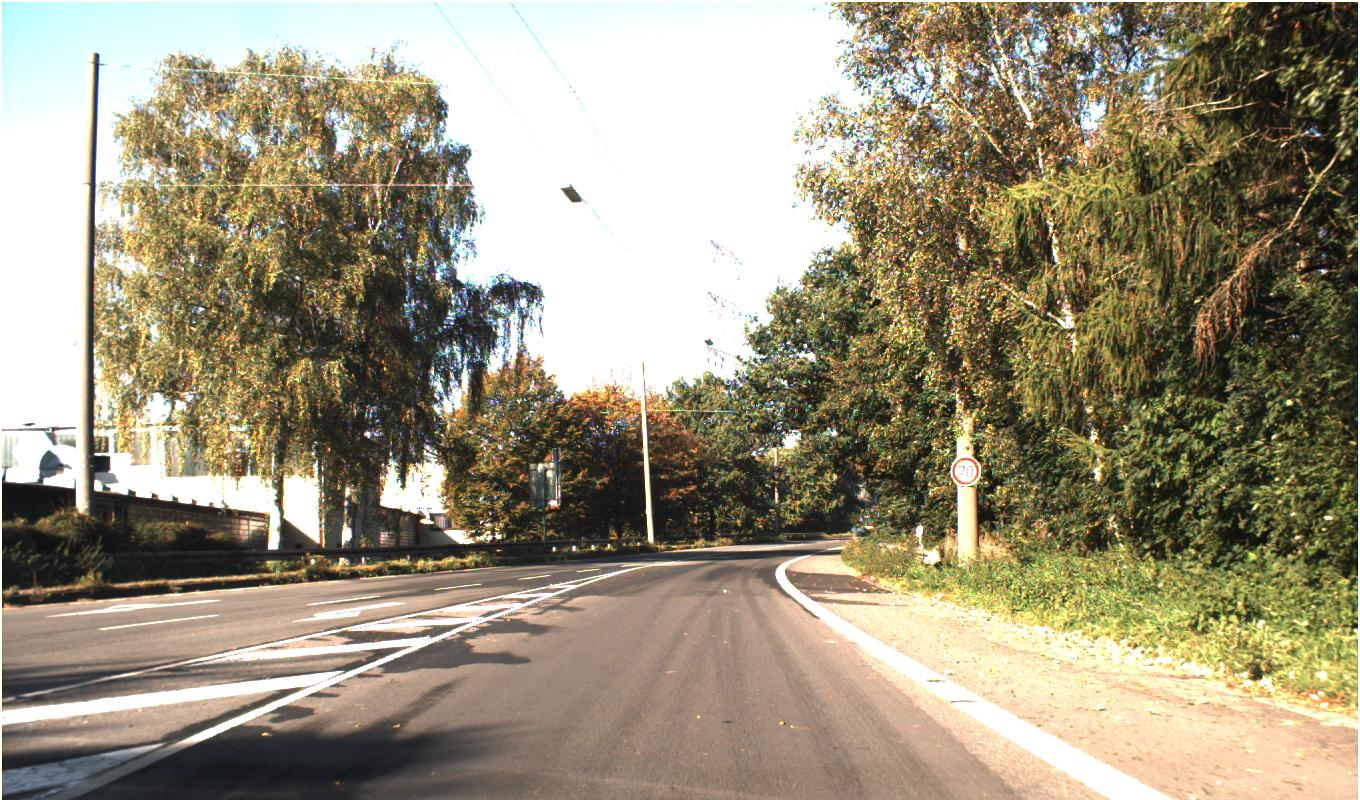prohibitory: (950, 455, 981, 486)
